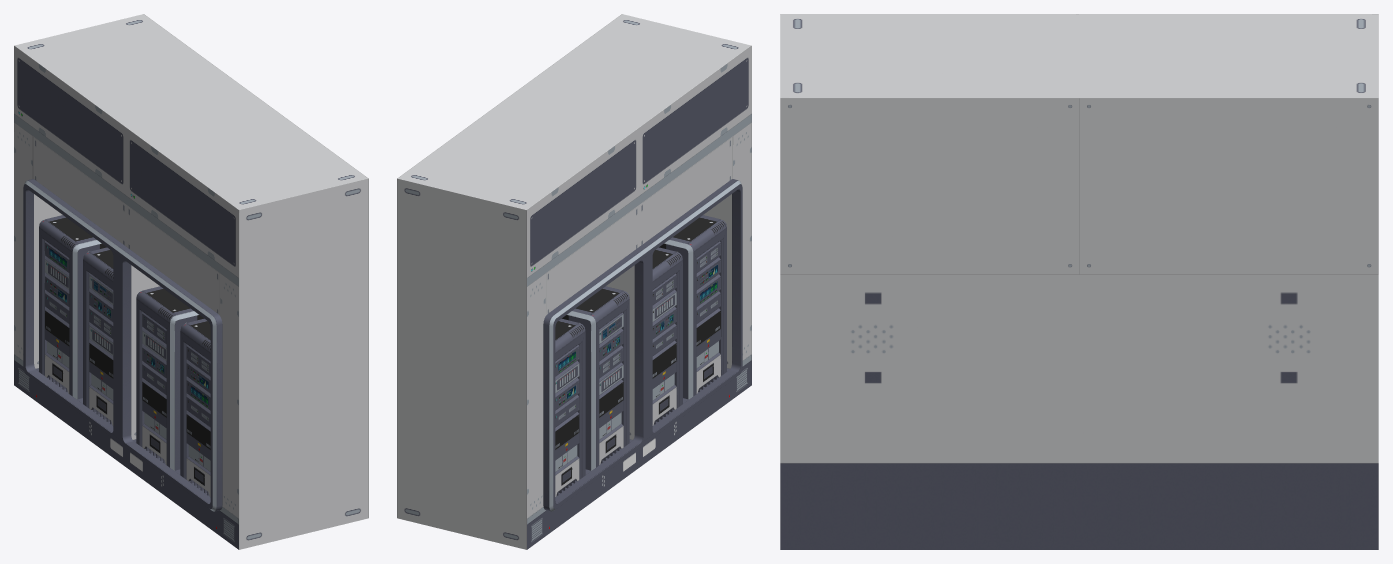
The model's file is Wall_Computer_01.FBX.
3 views of the same model, side by side, from view 1: azimuth 30°, elevation 25°; view 2: azimuth 150°, elevation 25°; view 3: azimuth 270°, elevation 25° (orthographic). The views are drawn at different scales.
Visible parts, largest first — view 1: Wall_Computer_01, Server_03, Server_01, Server_02, Server_04; view 2: Wall_Computer_01, Server_02, Server_04, Server_03, Server_01; view 3: Wall_Computer_01.
Part boxes in pixels (left/top/right/bottom): Wall_Computer_01: left=14, top=14, right=368, bottom=549; Server_03: left=136, top=286, right=203, bottom=470; Server_01: left=39, top=215, right=106, bottom=399; Server_02: left=83, top=247, right=113, bottom=425; Server_04: left=180, top=318, right=210, bottom=496; Wall_Computer_01: left=397, top=14, right=751, bottom=549; Server_02: left=562, top=286, right=629, bottom=470; Server_04: left=659, top=215, right=726, bottom=399; Server_03: left=652, top=247, right=682, bottom=425; Server_01: left=555, top=318, right=585, bottom=496; Wall_Computer_01: left=780, top=14, right=1378, bottom=549.
Bounding box in the file's own units: 2.13 × 5 × 6.
Materials: 5 (5 with a texture image).
